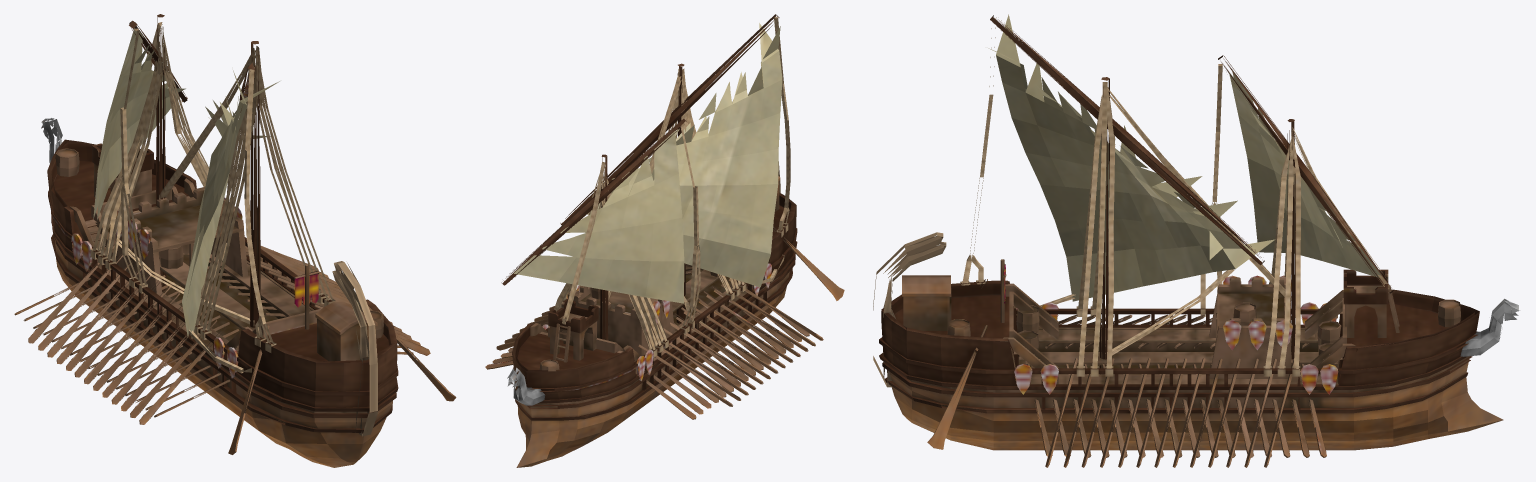
Rendered from fireship.glb.
The picture shows the model from 3 angles, left to right: view 1: azimuth 30°, elevation 25°; view 2: azimuth 150°, elevation 25°; view 3: azimuth 270°, elevation 25°; orthographic projection. The views are drawn at different scales.
Parts seen in each view (by area): view 1: defaultMaterial.071, defaultMaterial.068, defaultMaterial.009, defaultMaterial.055, defaultMaterial.008, defaultMaterial.057, defaultMaterial.056, defaultMaterial.067, defaultMaterial.061, defaultMaterial.069, defaultMaterial.070, defaultMaterial.011 (+31 smaller); view 2: defaultMaterial.057, defaultMaterial.056, defaultMaterial.071, defaultMaterial.069, defaultMaterial.055, defaultMaterial.061, defaultMaterial.067, defaultMaterial.062, defaultMaterial.059, defaultMaterial.008, defaultMaterial.068, defaultMaterial.015 (+26 smaller); view 3: defaultMaterial.071, defaultMaterial.057, defaultMaterial.068, defaultMaterial.069, defaultMaterial.056, defaultMaterial.067, defaultMaterial.070, defaultMaterial.061, defaultMaterial.009, defaultMaterial.055, defaultMaterial.008, defaultMaterial.065 (+16 smaller).
Part boxes in pixels (x1,y1,x2,y2): defaultMaterial.071: (54,238,392,467); defaultMaterial.068: (237,299,397,407); defaultMaterial.009: (194,46,335,339); defaultMaterial.055: (115,187,248,296); defaultMaterial.008: (90,24,209,270); defaultMaterial.057: (182,70,279,338); defaultMaterial.056: (93,28,185,219); defaultMaterial.067: (48,186,398,411); defaultMaterial.061: (51,218,396,432); defaultMaterial.069: (47,139,196,251); defaultMaterial.070: (82,253,311,360); defaultMaterial.011: (332,261,378,436); defaultMaterial.057: (580,23,782,287); defaultMaterial.056: (514,131,684,303); defaultMaterial.071: (516,266,789,467); defaultMaterial.069: (512,323,635,399); defaultMaterial.055: (567,285,674,355); defaultMaterial.061: (515,254,795,420); defaultMaterial.067: (513,228,797,403); defaultMaterial.062: (560,14,779,225); defaultMaterial.059: (501,118,686,285); defaultMaterial.008: (548,167,668,356); defaultMaterial.068: (768,192,796,273); defaultMaterial.015: (679,124,700,334); defaultMaterial.071: (887,327,1503,450); defaultMaterial.057: (988,14,1275,301); defaultMaterial.068: (881,280,1018,385); defaultMaterial.069: (1338,289,1479,385); defaultMaterial.056: (1229,70,1381,277); defaultMaterial.067: (879,308,1477,389); defaultMaterial.070: (1011,329,1338,383); defaultMaterial.061: (882,356,1472,413); defaultMaterial.009: (1076,82,1115,376); defaultMaterial.055: (1209,277,1290,378); defaultMaterial.008: (1263,129,1301,376); defaultMaterial.065: (1000,283,1355,384).
Bounding box in the file's own units: 2.94 × 4.01 × 5.8.
1 material, 1 textured.
